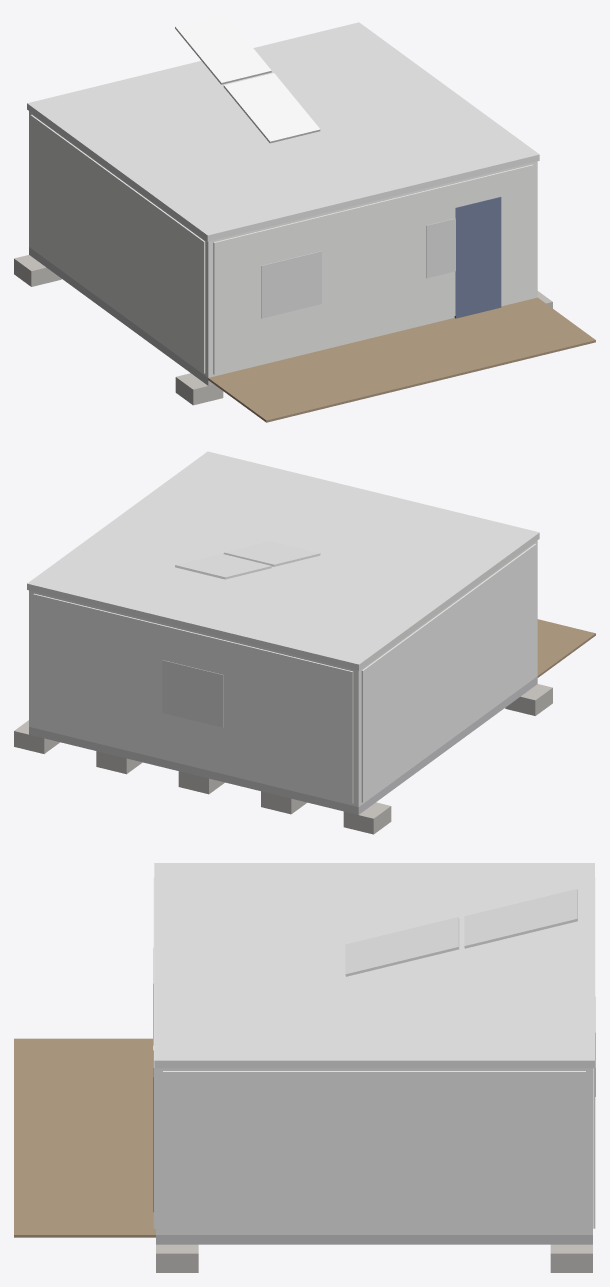
The model's file is Studio-20-FullSolar+TerraceDeck-LOD2.glb.
3 views of the same model, one above another, from view 1: azimuth 30°, elevation 25°; view 2: azimuth 150°, elevation 25°; view 3: azimuth 270°, elevation 25° (orthographic). The views are drawn at different scales.
Parts seen in each view (by area): view 1: RoofMain, ExteriorPanelsStandard, TerraceDeck, SolarPanelArray, EntryDoor, WindowsStandard, ExteriorShell, FoundationBlocks, BaseFrame; view 2: ExteriorPanelsStandard, RoofMain, FoundationBlocks, ExteriorShell, BaseFrame, WindowsStandard, SolarPanelArray, TerraceDeck; view 3: RoofMain, ExteriorPanelsStandard, TerraceDeck, SolarPanelArray, ExteriorShell, BaseFrame, FoundationBlocks.
Boxes of the visible parts, x1,y1,x2,y2 form: RoofMain: (27,22,539,241); ExteriorPanelsStandard: (30,114,533,374); TerraceDeck: (208,297,595,422); SolarPanelArray: (175,14,320,143); EntryDoor: (454,197,501,318); WindowsStandard: (261,218,455,318); ExteriorShell: (29,111,537,377); FoundationBlocks: (14,255,552,405); BaseFrame: (29,247,213,385); ExteriorPanelsStandard: (33,543,536,803); RoofMain: (27,451,539,670); FoundationBlocks: (14,684,552,834); ExteriorShell: (29,540,537,806); BaseFrame: (29,676,537,814); WindowsStandard: (162,660,223,727); SolarPanelArray: (175,541,320,579); TerraceDeck: (537,619,595,677); RoofMain: (154,863,594,1068); ExteriorPanelsStandard: (153,878,595,1232); TerraceDeck: (14,1038,155,1237); SolarPanelArray: (345,889,577,976); ExteriorShell: (156,1068,592,1234); BaseFrame: (156,1235,592,1244); FoundationBlocks: (156,1244,592,1272).
Bounding box in the file's own units: 7.14 × 4.07 × 8.2.
